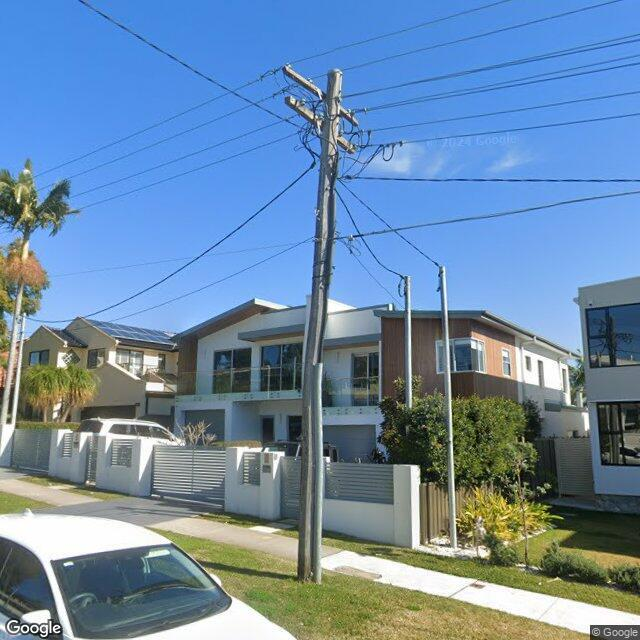crossarm: (278, 65, 358, 128), (284, 97, 356, 155)
steel-pole: (439, 265, 456, 548), (11, 313, 26, 429), (404, 275, 413, 407)
timber-pole: (296, 69, 344, 584)
